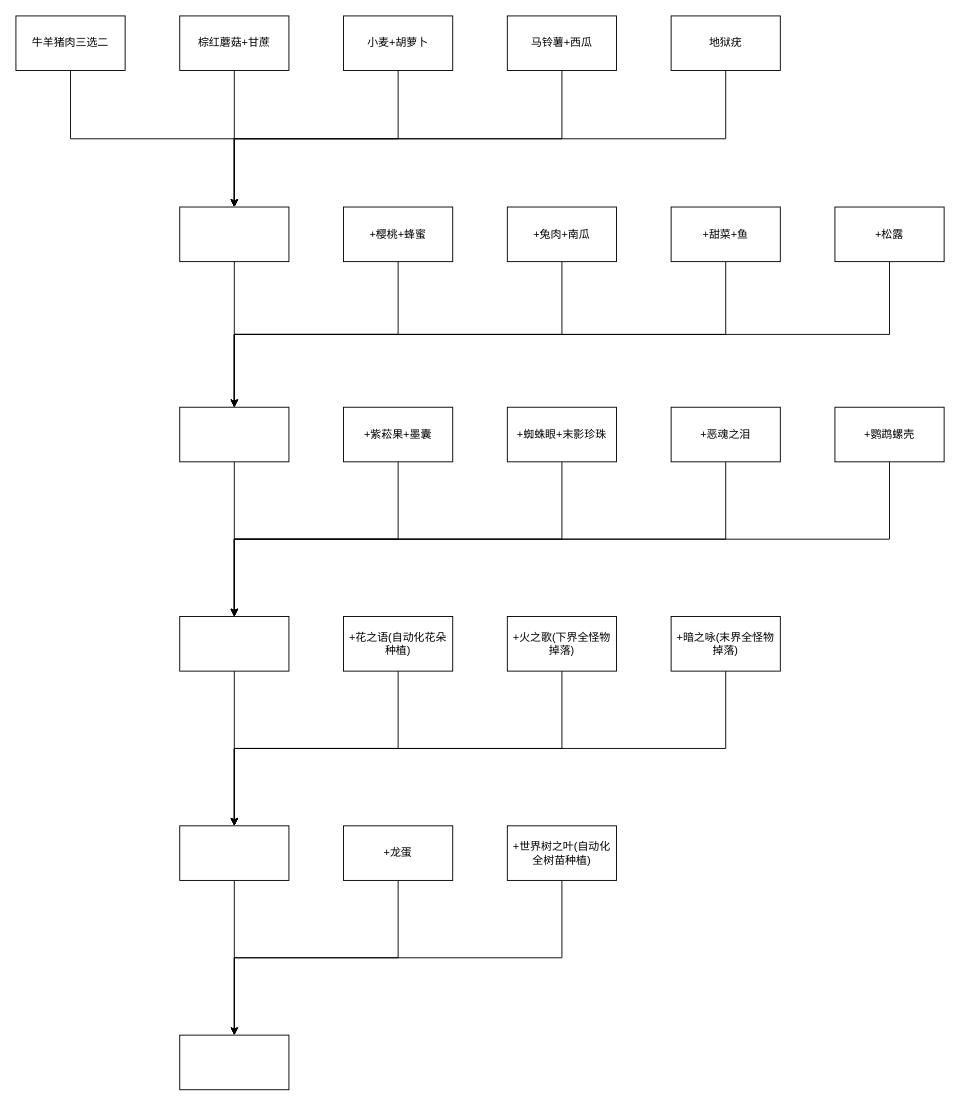
This 960x1106 diagram has some shape labels left out. The shapes that lost their labels are listed below. From the top down, each one's centre as x and y in pixels, then its label:
At (234,234): "T0生物质".
At (234,434): "T1生物质".
At (234,643): "T2生物质".
At (234,852): "T3生物质".
At (234,1062): "T4生物质".
